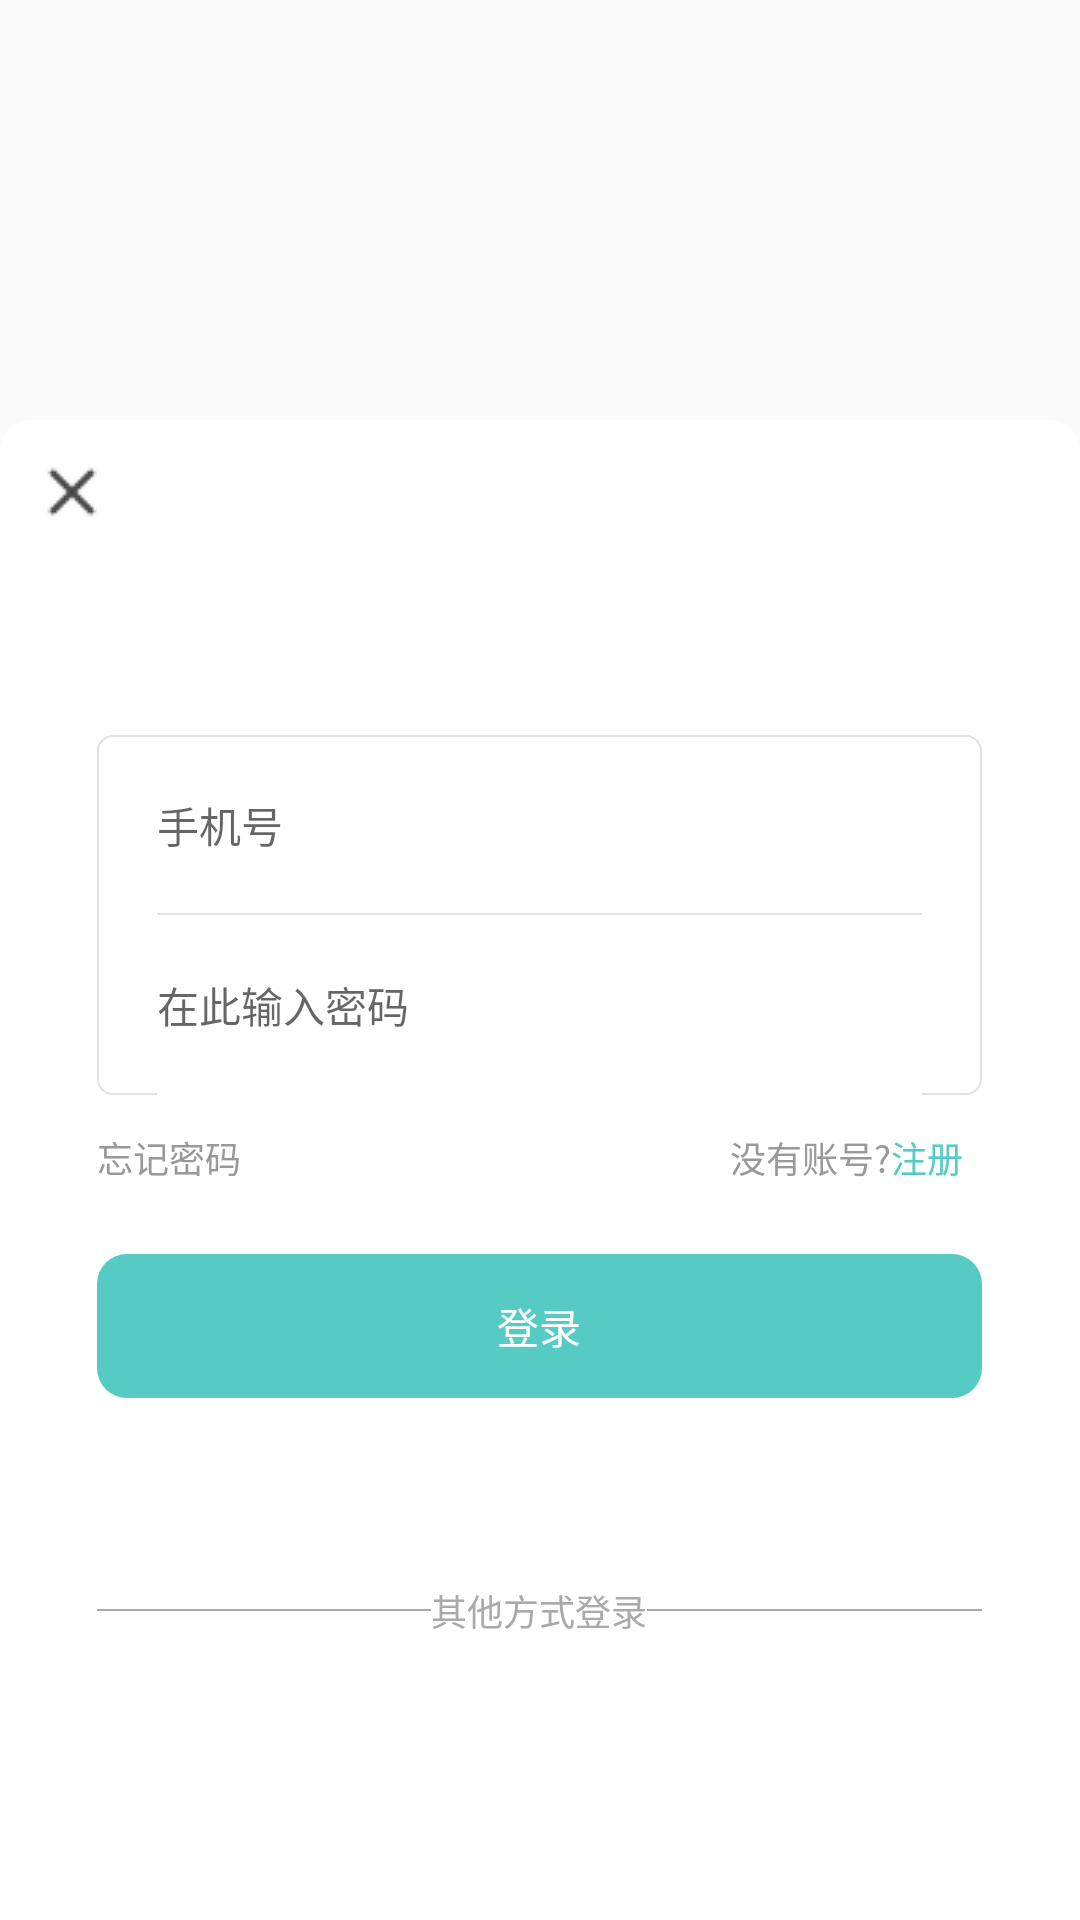

Point at icon controls on the screen. Image size 1080w x 1920h, points as (x,y).
src login close: (72,492)
